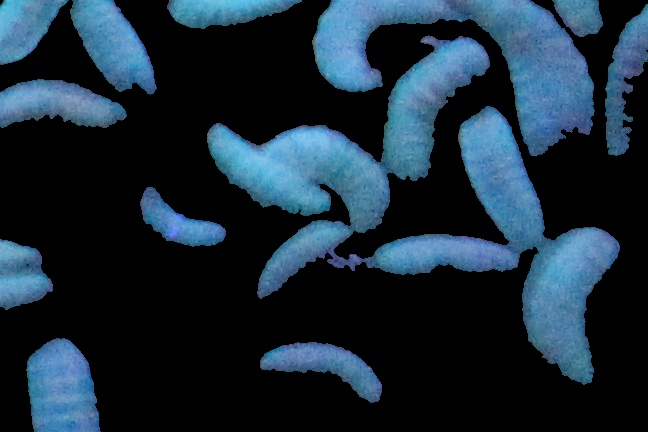larvae: (463, 1, 593, 149), (520, 224, 622, 388), (386, 39, 482, 180), (457, 108, 552, 249), (270, 124, 391, 233), (313, 1, 448, 89), (207, 126, 325, 219), (70, 1, 162, 94), (260, 342, 382, 406), (364, 232, 523, 278), (25, 336, 101, 432), (256, 220, 350, 295), (140, 178, 224, 253), (1, 80, 127, 130), (1, 1, 65, 69), (166, 1, 313, 28), (1, 274, 54, 313), (555, 1, 605, 36)
